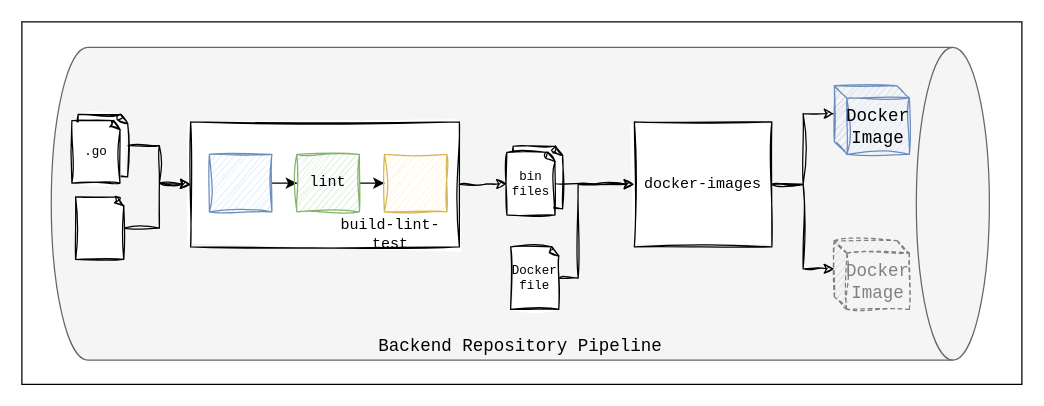
The diagram is 1044 pixels wide and 406 high, and some of its shapes have lost their labels. Here are the shapes that lost their labels. From the top down, the centre of each, then its label:
(240,182): build
(415,182): unit tests
(99,227): Make file
